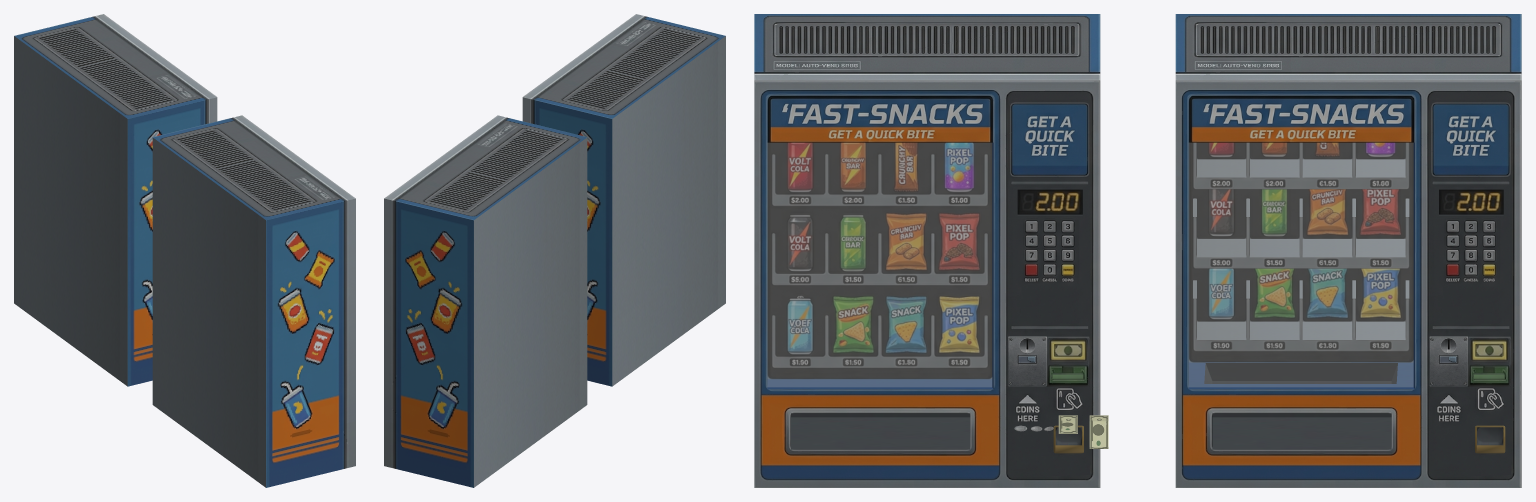
File: VendineMachine.fbx
The picture shows the model from 3 angles, left to right: view 1: azimuth 30°, elevation 25°; view 2: azimuth 150°, elevation 25°; view 3: azimuth 270°, elevation 25°; orthographic projection. The views are drawn at different scales.
Visible parts, largest first — view 1: Vend.Simple, Vend.MoreDetailed; view 2: Vend.MoreDetailed, Vend.Simple; view 3: Vend.MoreDetailed, Vend.Simple.
Part boxes in pixels (left/top/right/bottom): Vend.Simple: left=152, top=115, right=355, bottom=487; Vend.MoreDetailed: left=14, top=14, right=217, bottom=386; Vend.MoreDetailed: left=384, top=115, right=587, bottom=487; Vend.Simple: left=522, top=14, right=725, bottom=386; Vend.MoreDetailed: left=1175, top=14, right=1521, bottom=487; Vend.Simple: left=754, top=14, right=1100, bottom=487.
Bounding box in the file's own units: 350 × 539 × 919.
